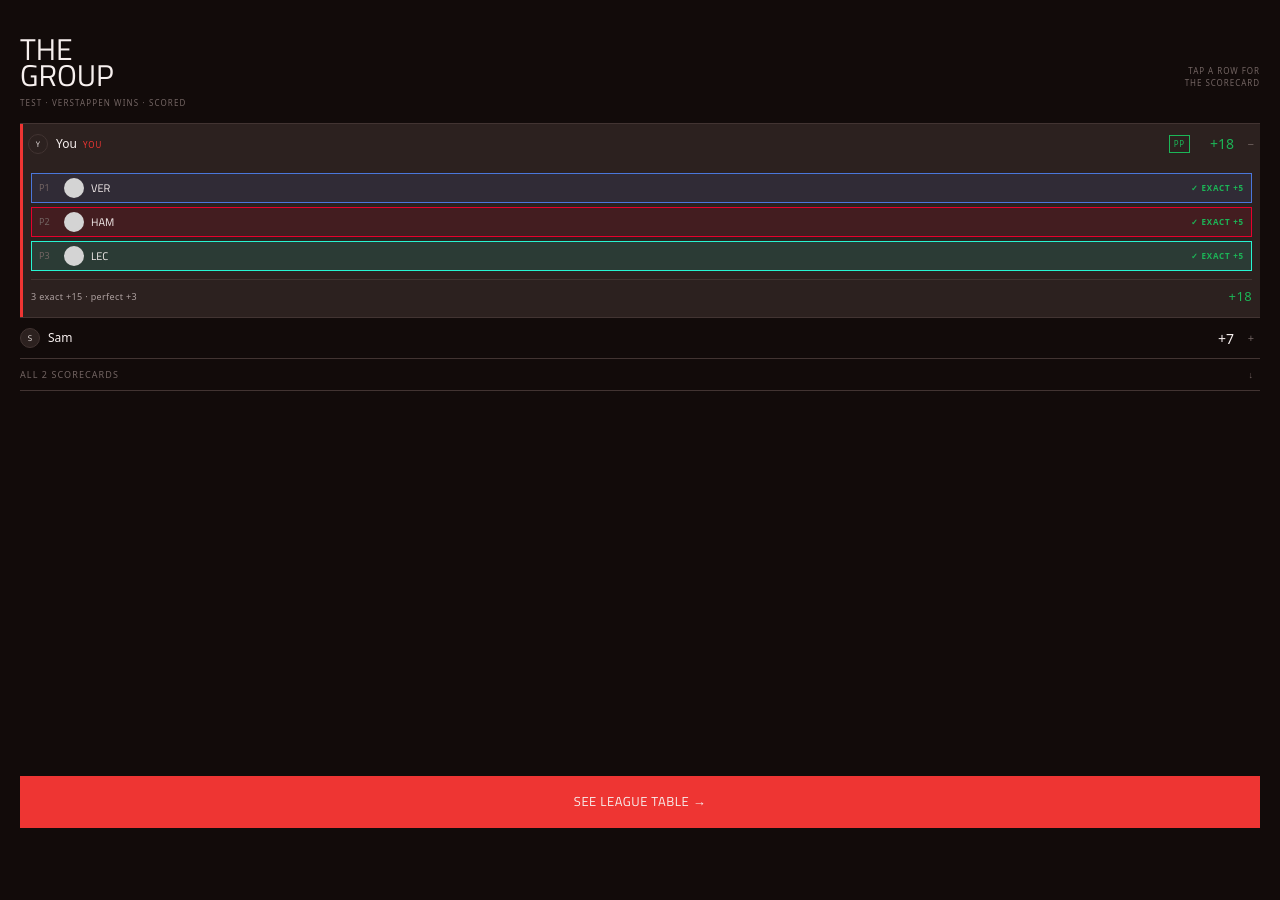
Test: RevealStage portrait stage-C scorecards (R-5) › expand-all opens every row, and toggles back to collapse-all
Click the button "All 2 scorecards ↓": (69, 375) [20,359,1260,391]
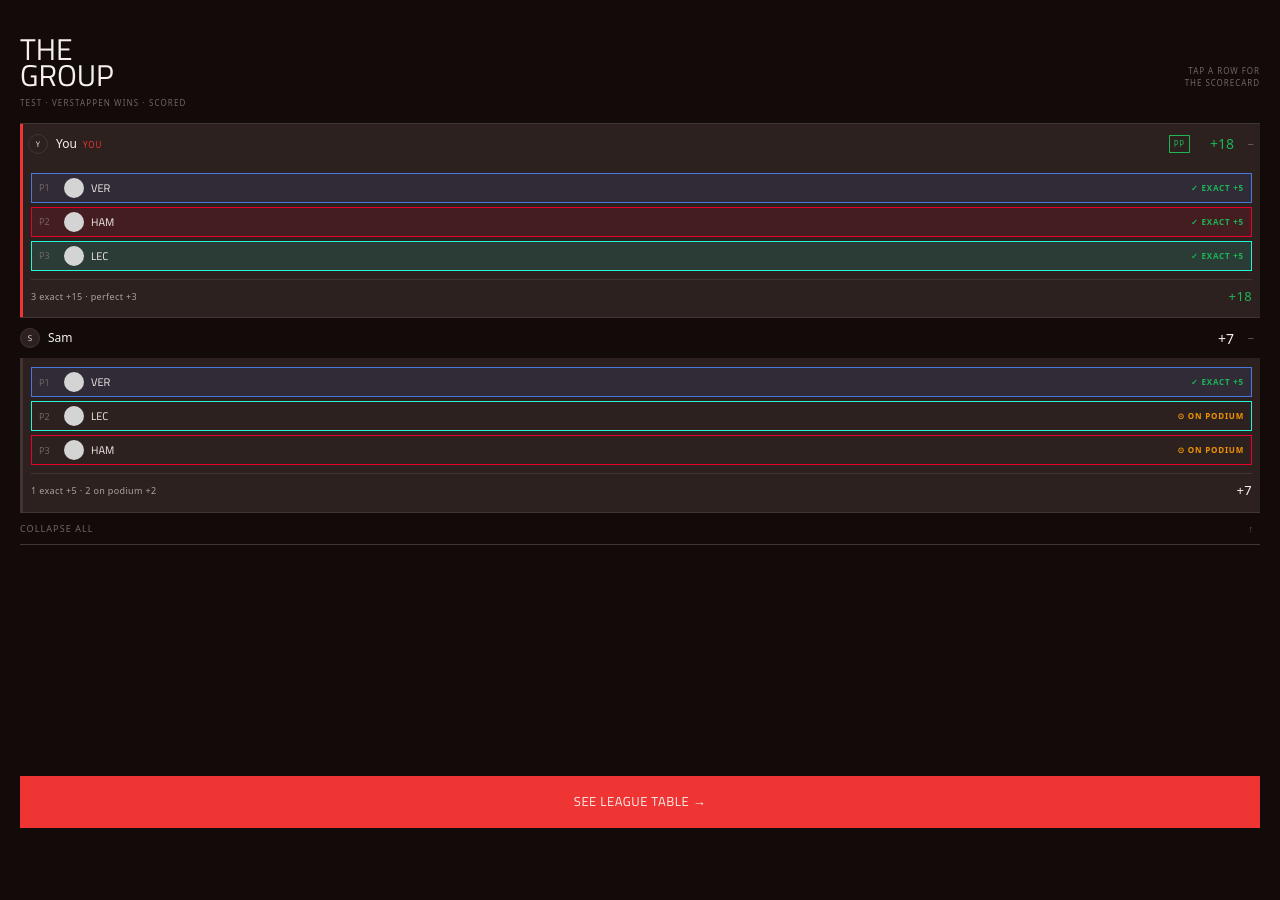
Now the button "Collapse all ↑" is expanded
Click the button "Collapse all ↑": (57, 528) [20,513,1260,545]
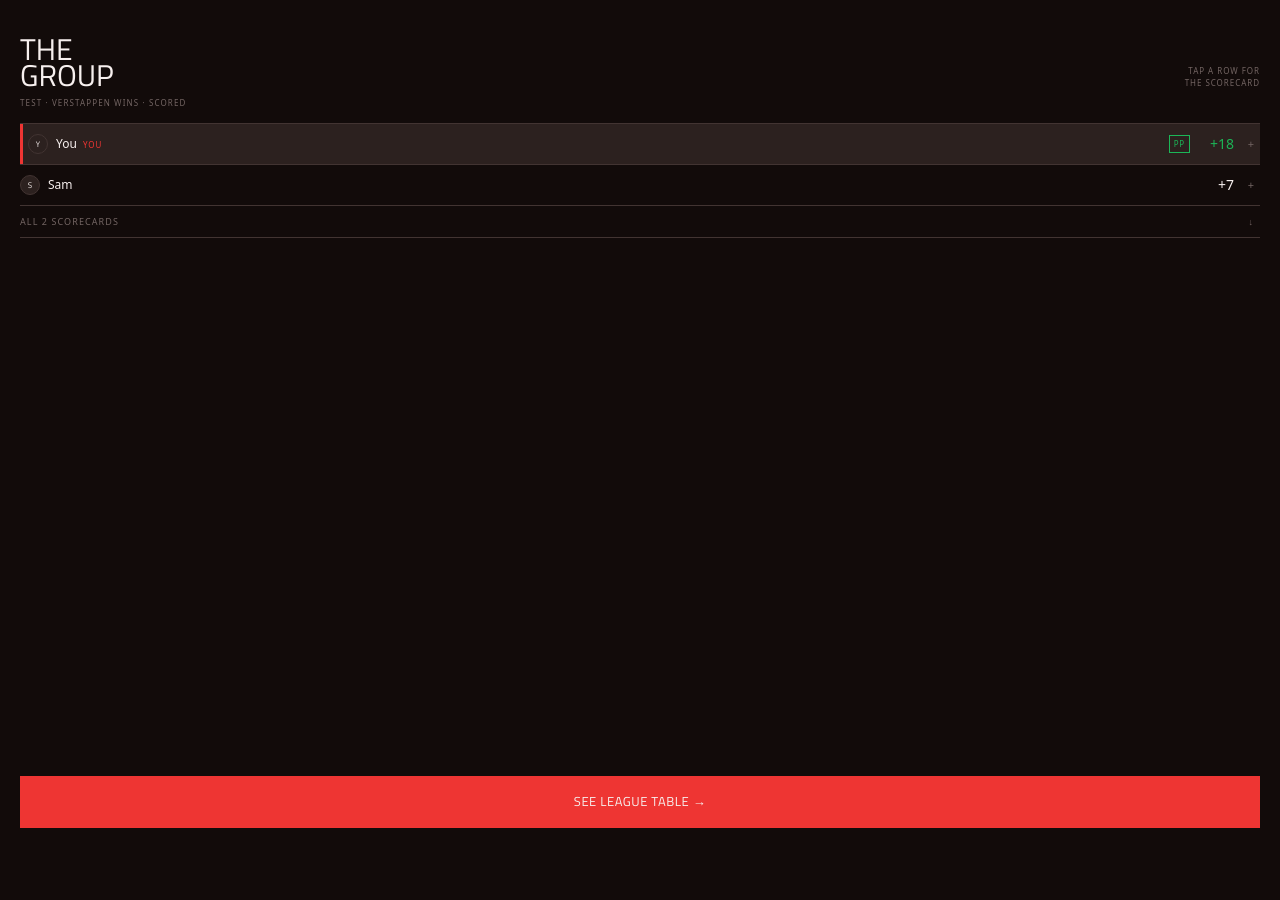
Now the button "All 2 scorecards ↓" is collapsed, box [20,206,1260,238]
